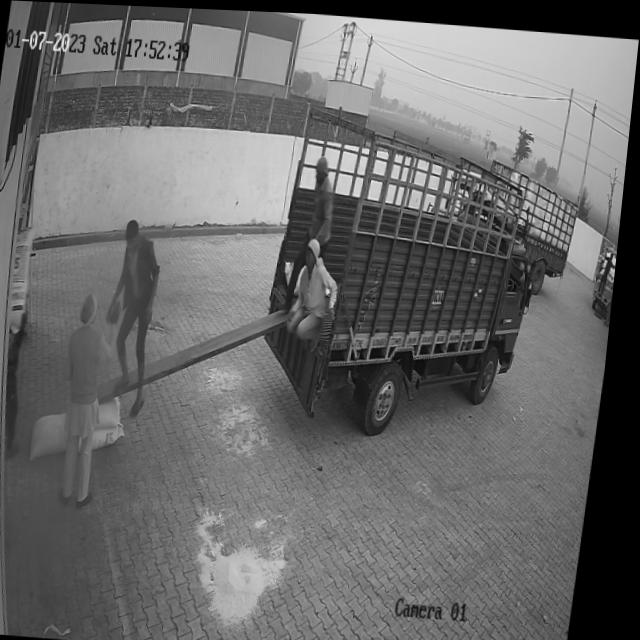sack: (36, 407, 78, 458), (101, 392, 131, 429), (101, 419, 133, 449)
